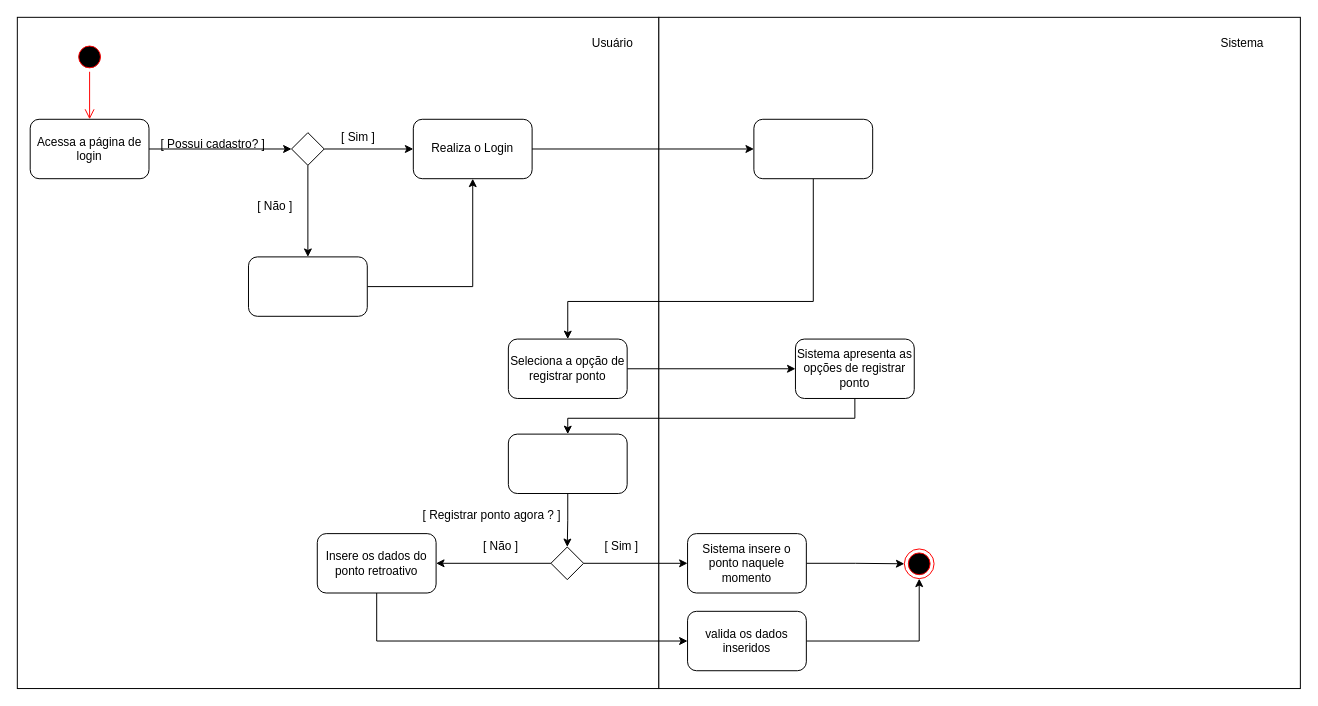
Some shapes in this 1318 by 706 pixel diagram are drawn without their labels. Here are the shapes that lost their labels. From the top down, the centre of each, then its label:
pixel 813 148: Transfere Usuário para a tela de menu principal
pixel 307 286: Realiza o cadastro
pixel 567 463: Seleciona a opção desejada
